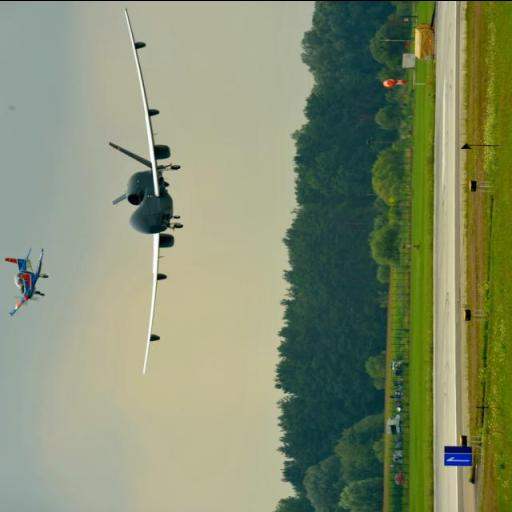uav: (84, 4, 218, 386)
